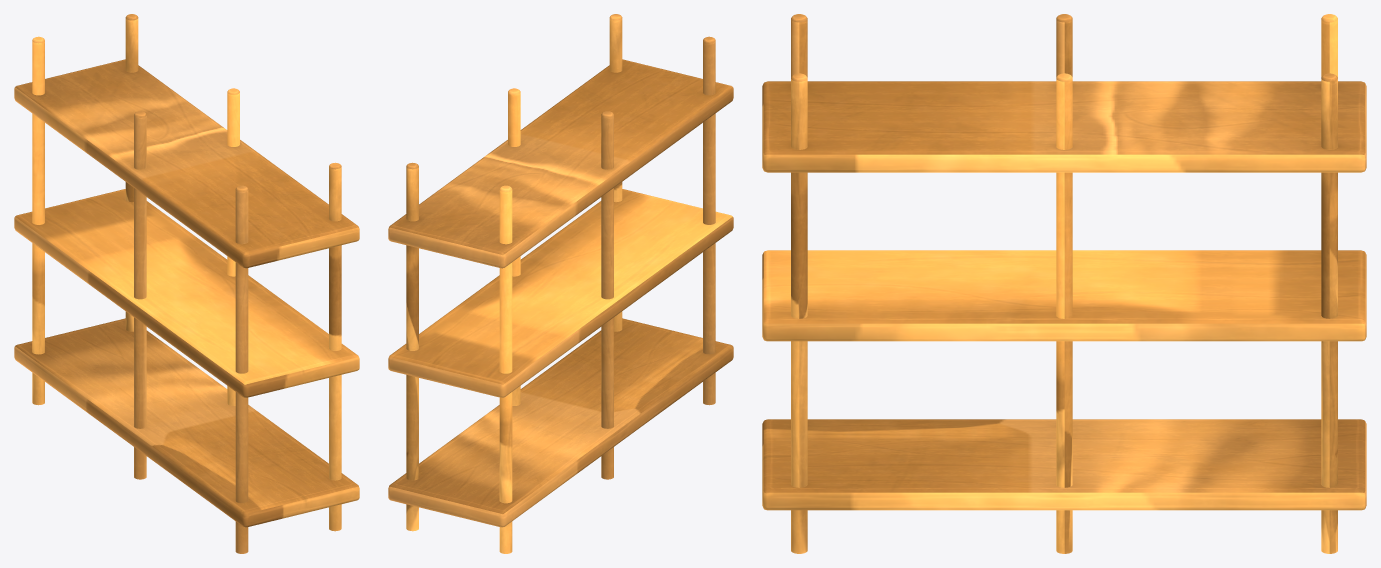
The model's file is SM_Shelf_4.fbx.
The picture shows the model from 3 angles, left to right: view 1: azimuth 30°, elevation 25°; view 2: azimuth 150°, elevation 25°; view 3: azimuth 270°, elevation 25°; orthographic projection. The views are drawn at different scales.
Visible parts, largest first — view 1: SM_Shelf_4_LOD0; view 2: SM_Shelf_4_LOD0; view 3: SM_Shelf_4_LOD0.
Boxes of the visible parts, <box> form: SM_Shelf_4_LOD0: <box>14,14,359,553</box>; SM_Shelf_4_LOD0: <box>388,14,733,553</box>; SM_Shelf_4_LOD0: <box>762,14,1366,553</box>.
Size of the model in its own units: 67.02 by 230 by 199.
